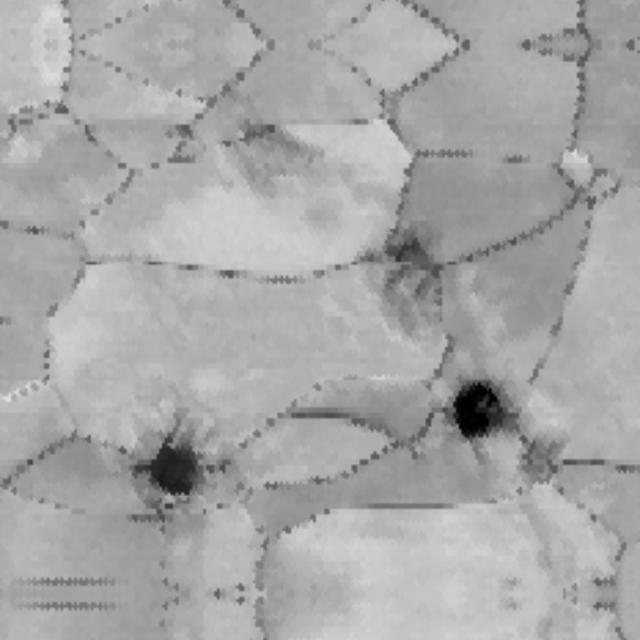good_void: (213, 115, 326, 208), (368, 229, 450, 342), (127, 430, 201, 507), (441, 375, 517, 448), (504, 432, 564, 500)
